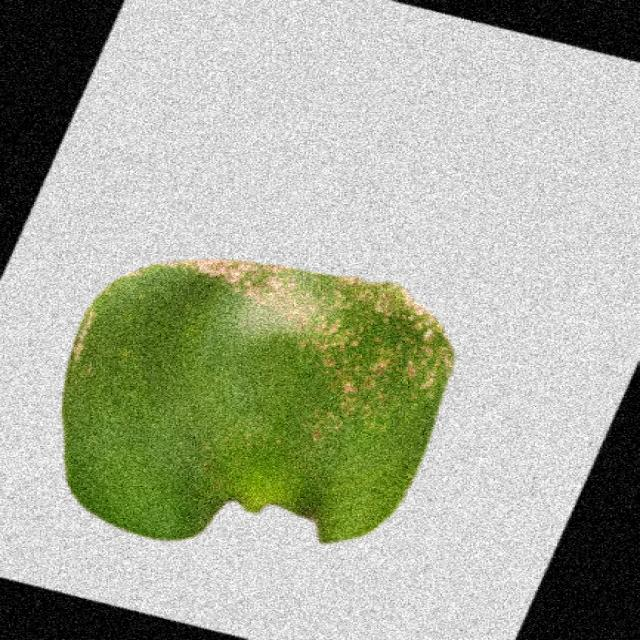daun berpenyakit bercak: (62, 260, 453, 542)
